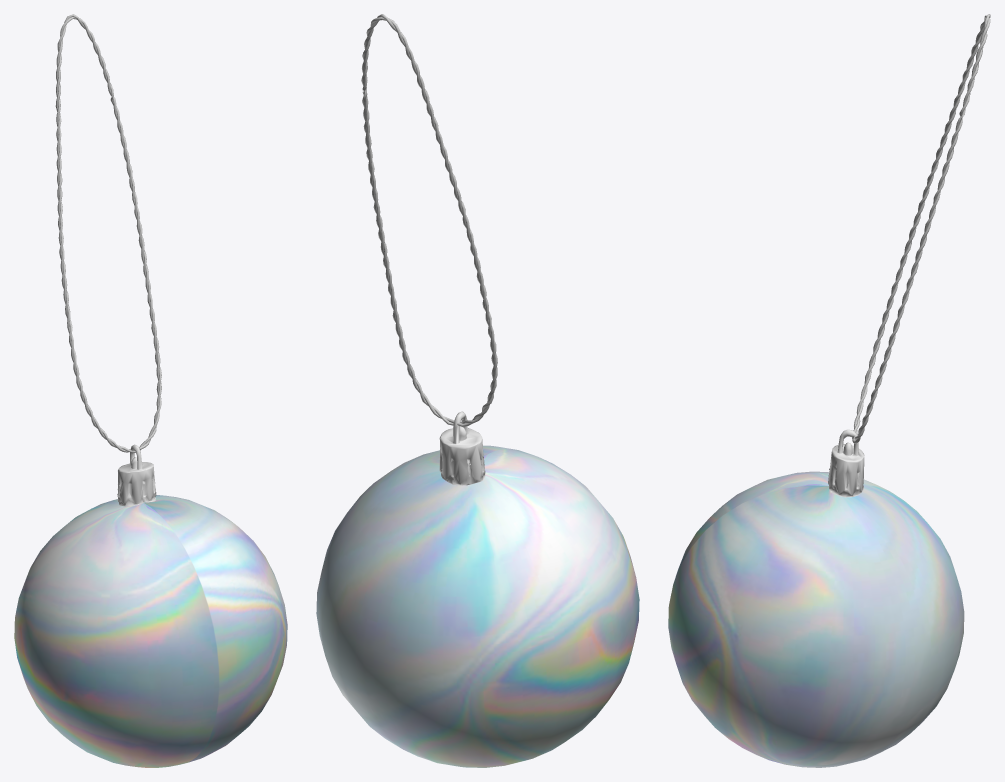
Rendered from Iridescent_Ball3.glb.
3 views of the same model, side by side, from view 1: azimuth 30°, elevation 25°; view 2: azimuth 150°, elevation 25°; view 3: azimuth 270°, elevation 25° (orthographic). The views are drawn at different scales.
Parts seen in each view (by area): view 1: Sphere, GN Instance; view 2: Sphere, GN Instance; view 3: Sphere, GN Instance.
Part boxes in pixels (<box>): Sphere: <box>14,444,287,767</box>; GN Instance: <box>55,14,161,452</box>; Sphere: <box>316,411,639,767</box>; GN Instance: <box>361,14,497,426</box>; Sphere: <box>668,429,964,767</box>; GN Instance: <box>852,14,990,443</box>.
Size of the model in its own units: 0.0369 by 0.1017 by 0.0402.
3 materials, 1 textured.
